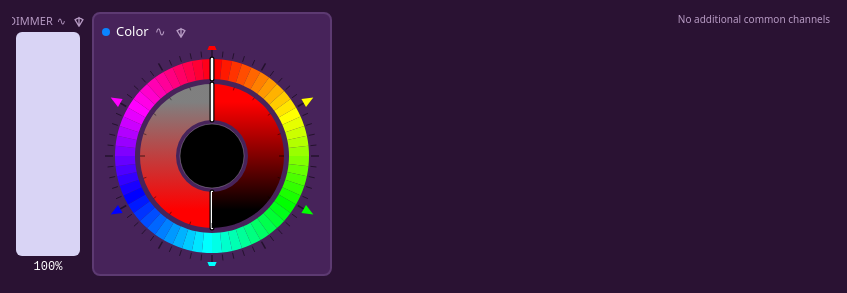
Test case: DesignTab — black fixture starts vivid; brightness 0 must not lock colour selection › sat/brightness default to 100%; saturation past 100% stays 100%; hue works at brightness 0 and sticks
The image size is (847, 293).
Press the mouse on the slider with class "color-wheel": (212, 156) [102,46,322,266]
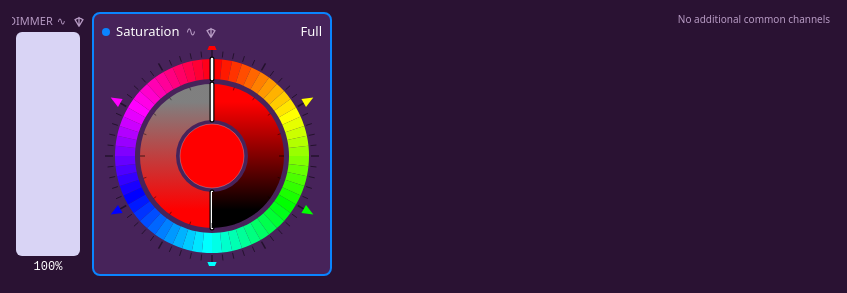
Press the mouse on the slider with class "color-wheel": (212, 156) [102,46,322,266]
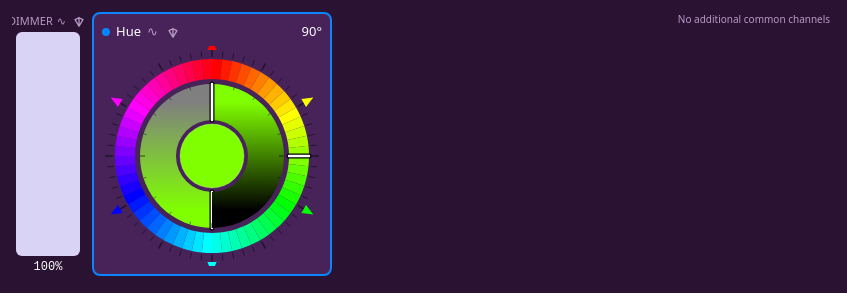
Expected: the slider with class "color-wheel" has attribute aria-valuenow="90"
Press the mouse on the slider with class "color-wheel": (212, 156) [102,46,322,266]
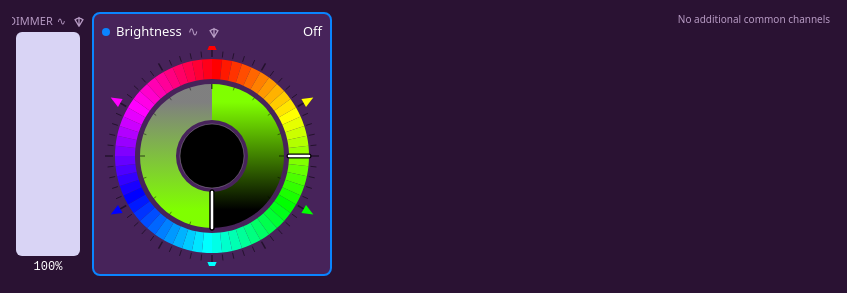
Press the mouse on the slider with class "color-wheel": (212, 156) [102,46,322,266]
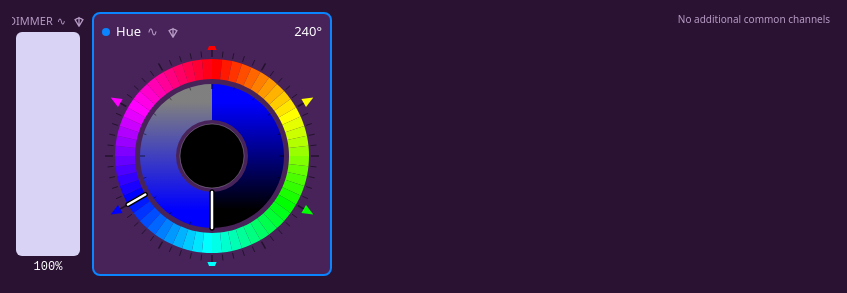
Expected: the slider with class "color-wheel" has attribute aria-valuenow="240"
Press the mouse on the slider with class "color-wheel": (212, 156) [102,46,322,266]
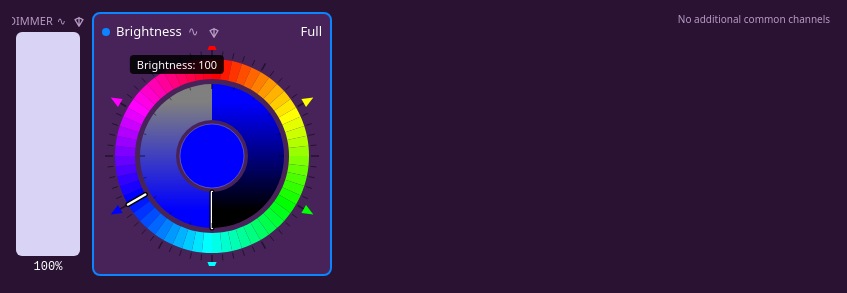
Expected: the slider with class "color-wheel" has attribute aria-valuenow="240", [102,46,322,266]
